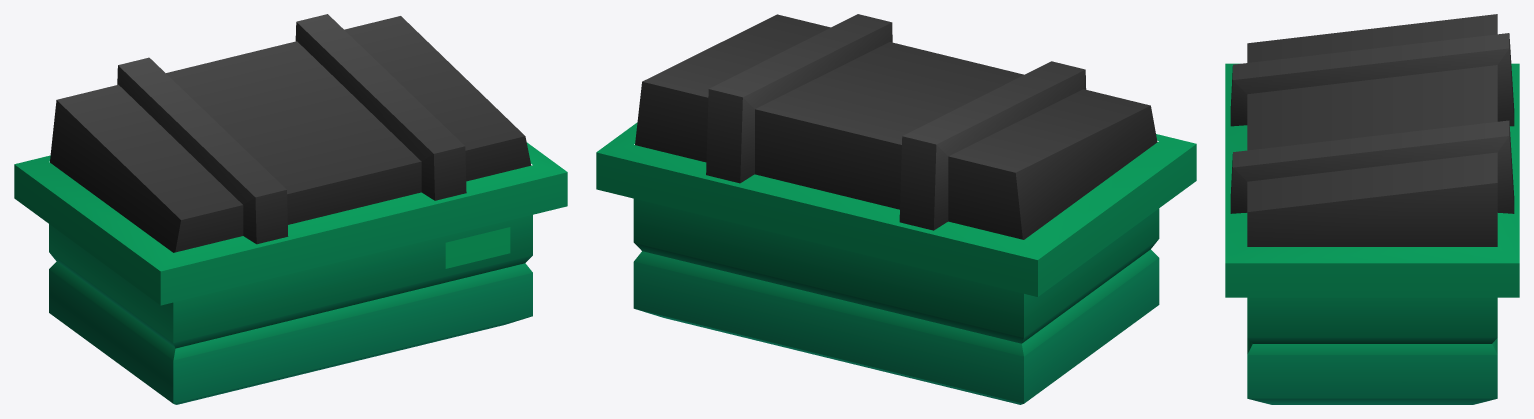
File: dumpster.glb
3 renders of one model, left to right at view 1: azimuth 30°, elevation 25°; view 2: azimuth 150°, elevation 25°; view 3: azimuth 270°, elevation 25°, orthographic. The views are drawn at different scales.
Visible parts, largest first — view 1: dumpster; view 2: dumpster; view 3: dumpster.
Part boxes in pixels (left/top/right/bottom): dumpster: left=14, top=14, right=567, bottom=404; dumpster: left=596, top=14, right=1196, bottom=404; dumpster: left=1225, top=14, right=1519, bottom=404.
Bounding box in the file's own units: 0.5659 × 0.3173 × 0.3528.
1 material, 1 textured.
